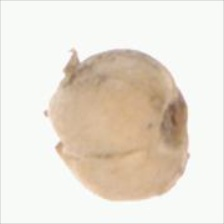L3: (42, 101, 68, 163)
L4: (43, 48, 189, 201)
